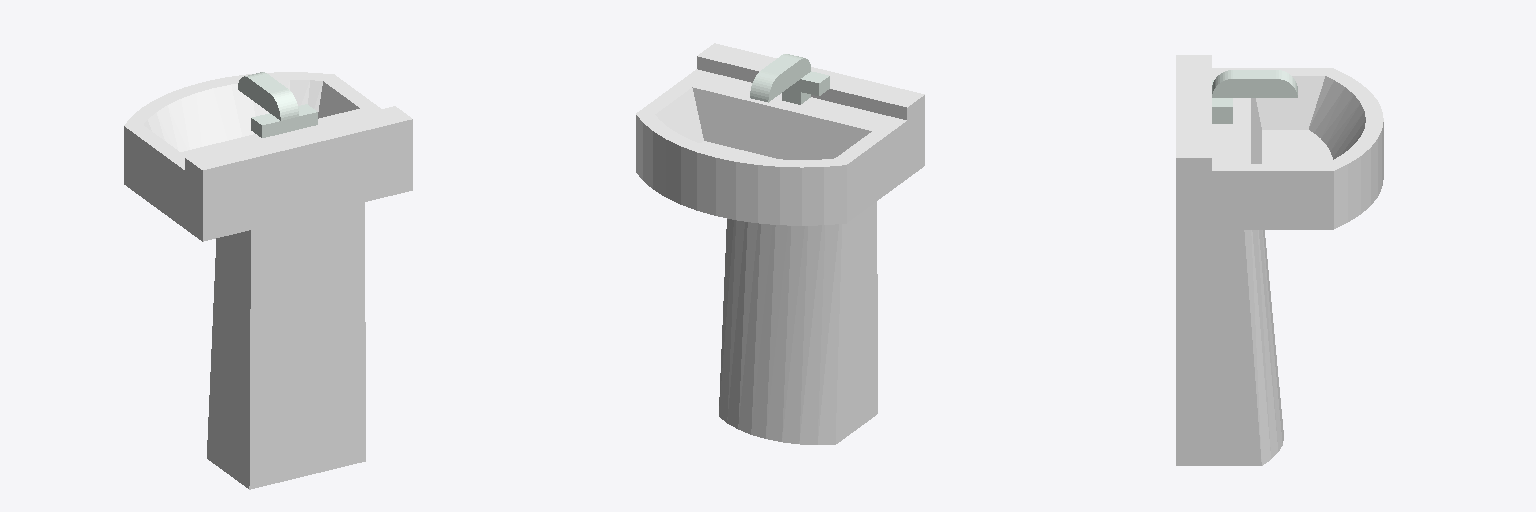
File: bathroomSink.obj
3 views of the same model, side by side, from view 1: azimuth 30°, elevation 25°; view 2: azimuth 150°, elevation 25°; view 3: azimuth 270°, elevation 25° (orthographic).
Parts seen in each view (by area): view 1: bathroomSink; view 2: bathroomSink; view 3: bathroomSink.
Boxes of the visible parts, <box> form: bathroomSink: <box>124,72,412,489</box>; bathroomSink: <box>636,43,924,444</box>; bathroomSink: <box>1176,55,1383,465</box>.
Size of the model in its own units: 0.34 by 0.56 by 0.29.